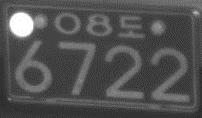0: (54, 11, 82, 35)
2: (103, 44, 144, 100), (150, 46, 191, 102)
6: (14, 39, 52, 95)
7: (57, 39, 97, 95)
8: (85, 11, 114, 37)
도: (117, 14, 147, 39)
